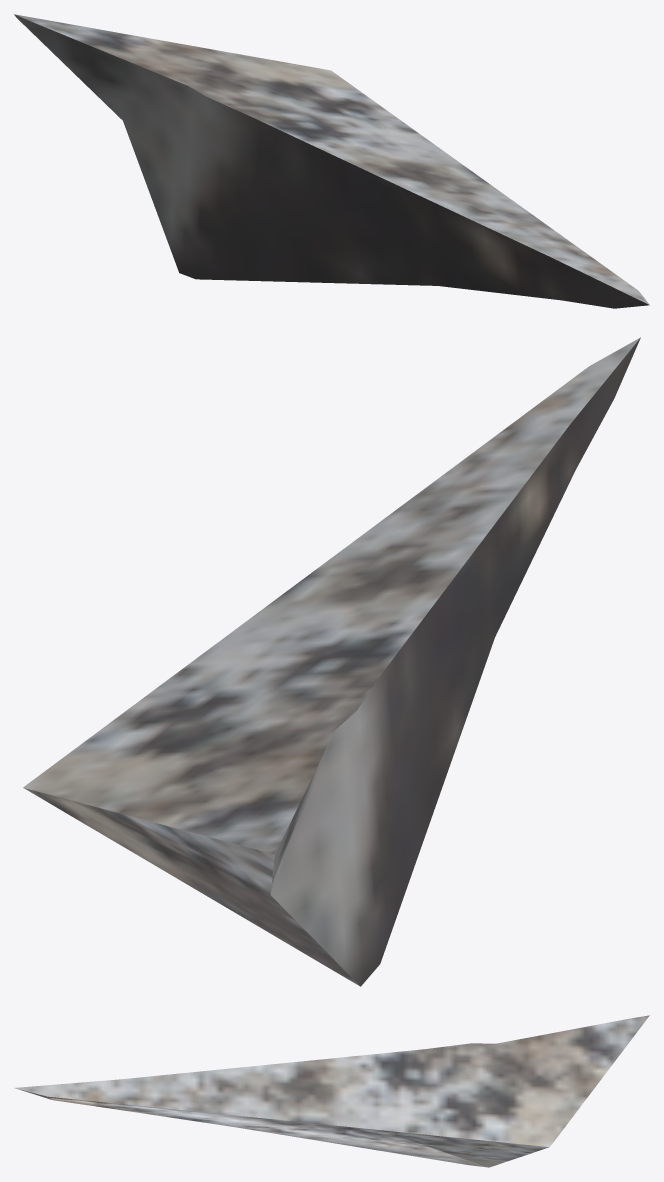
Rendered from Asteroid_Large_001_02_002_03_028.fbx.
3 renders of one model, top to bottom at view 1: azimuth 30°, elevation 25°; view 2: azimuth 150°, elevation 25°; view 3: azimuth 270°, elevation 25°, orthographic. The views are drawn at different scales.
Parts seen in each view (by area): view 1: Asteroid_Large_001_02_002_03_028; view 2: Asteroid_Large_001_02_002_03_028; view 3: Asteroid_Large_001_02_002_03_028.
Boxes of the visible parts, bbox=[...] form: Asteroid_Large_001_02_002_03_028: bbox=[14, 14, 649, 308]; Asteroid_Large_001_02_002_03_028: bbox=[23, 337, 640, 986]; Asteroid_Large_001_02_002_03_028: bbox=[15, 1015, 649, 1167].
Size of the model in its own units: 1.52 by 1.11 by 4.76.
